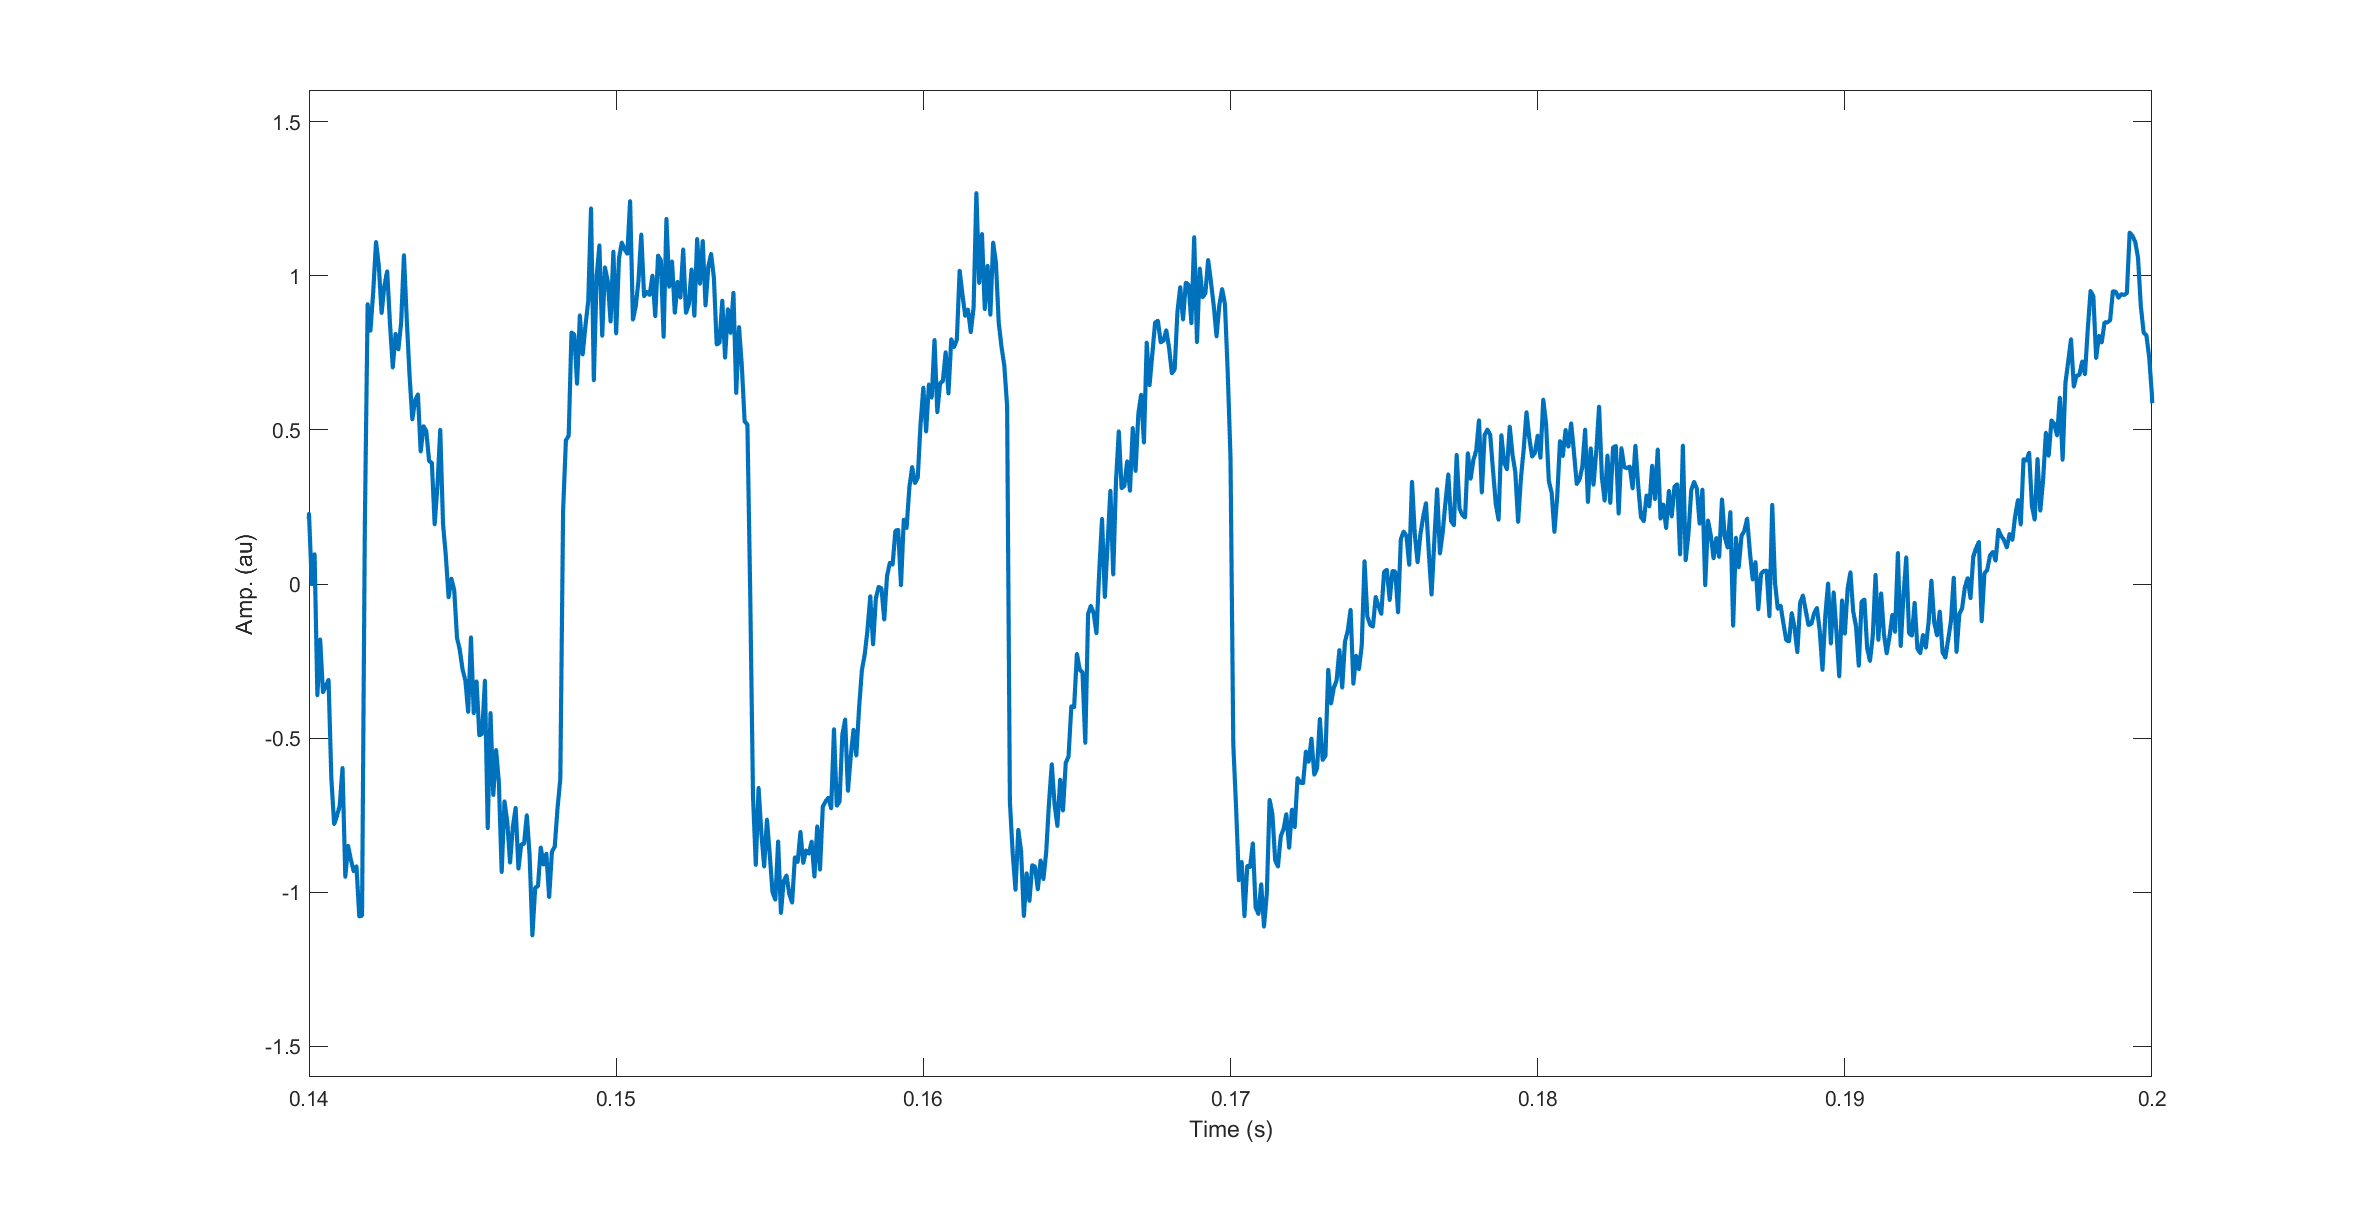negative_fringe: (349, 208, 535, 917)
positive_fringe: (781, 171, 1023, 917), (1039, 215, 1248, 900)
